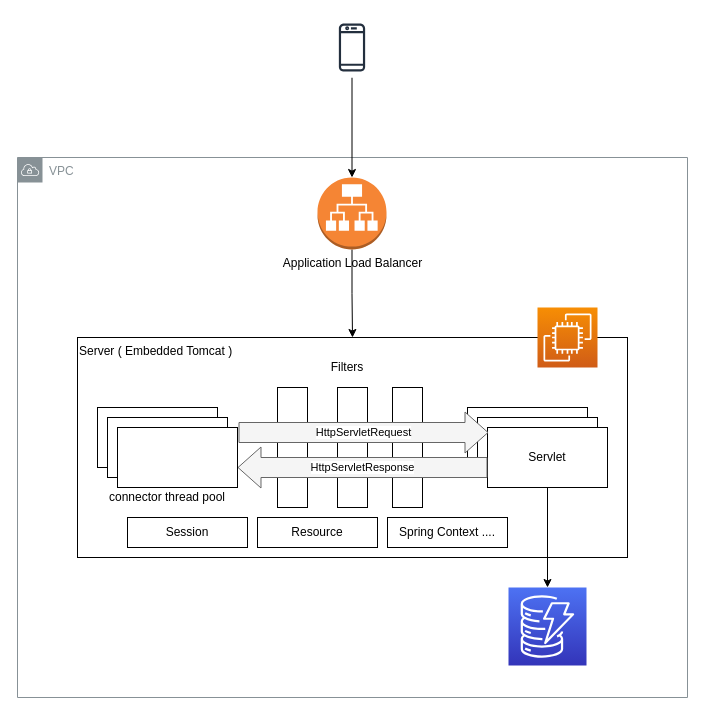
Image size: 705x715. Some labels were removed from this diagram. Each missing label, with the box of its shape:
AWS EC2: (536, 306, 598, 368)
connector: (116, 426, 238, 488)
DynamoDB: (508, 586, 586, 666)
Mobile client: (321, 16, 382, 78)
